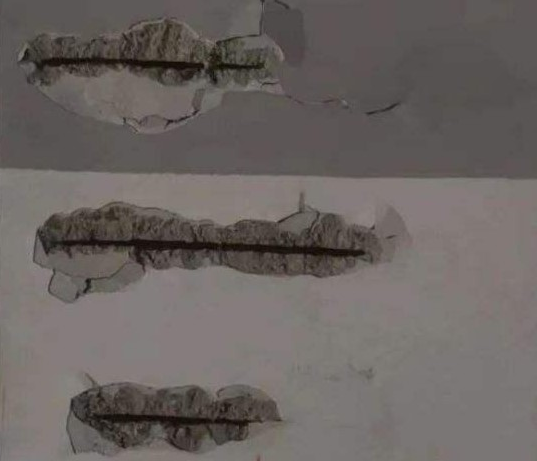Crack: (287, 93, 402, 116)
Exposed reinforcement: (49, 238, 367, 258), (39, 56, 266, 71), (93, 412, 257, 427)
Spalling: (33, 200, 382, 304), (16, 16, 287, 135), (66, 381, 284, 456)
